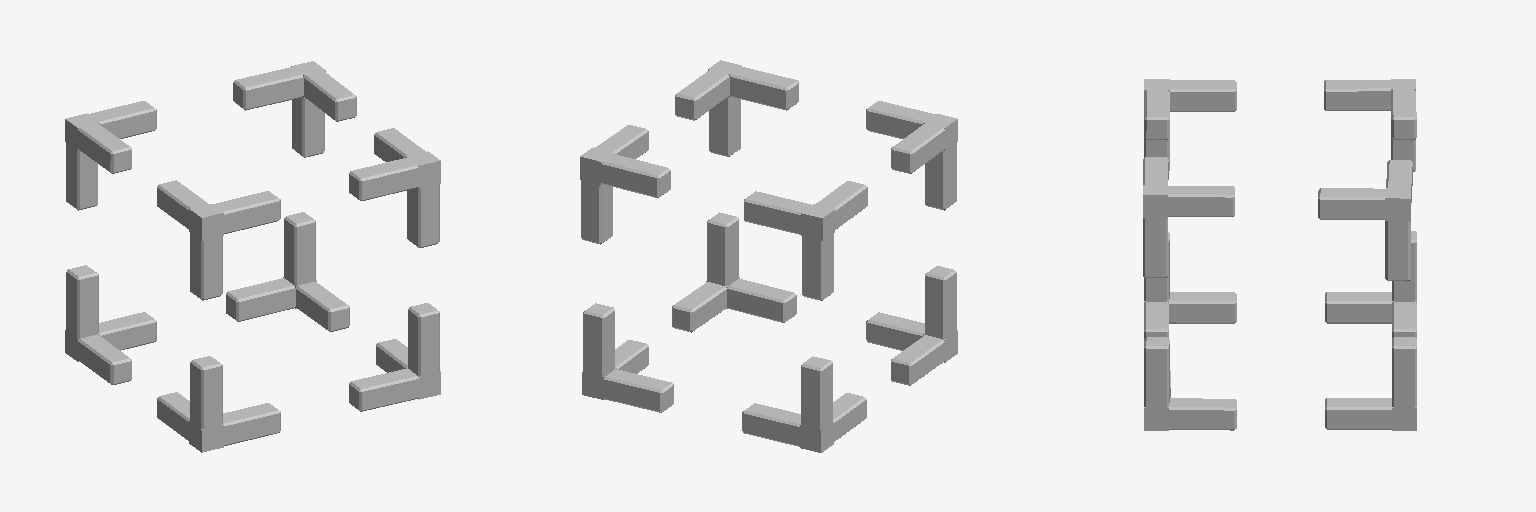
The model's file is mark-asteroid.obj.
3 renders of one model, left to right at view 1: azimuth 30°, elevation 25°; view 2: azimuth 150°, elevation 25°; view 3: azimuth 270°, elevation 25°, orthographic.
Visible parts, largest first — view 1: Cube.004, Cube.002, Cube.001, Cube.005, Cube.007, Cube, Cube.006, Cube.003; view 2: Cube.003, Cube.006, Cube, Cube.005, Cube.007, Cube.001, Cube.002, Cube.004; view 3: Cube.007, Cube.005, Cube.003, Cube.002, Cube.004, Cube.006, Cube, Cube.001.
Part boxes in pixels (x1,y1,x2,y2): Cube.004: (157,180,280,300); Cube.002: (226,212,349,331); Cube.001: (157,356,280,452); Cube.005: (349,128,440,247); Cube.007: (233,61,356,157); Cube: (65,265,156,384); Cube.006: (65,101,156,210); Cube.003: (349,303,440,411); Cube.003: (672,212,796,332); Cube.006: (744,181,867,300); Cube: (742,356,866,452); Cube.005: (675,60,798,156); Cube.007: (580,125,670,244); Cube.001: (866,266,957,385); Cube.002: (582,303,673,412); Cube.004: (866,101,957,210); Cube.007: (1318,160,1412,281); Cube.005: (1143,157,1234,277); Cube.003: (1144,337,1236,430); Cube.002: (1325,337,1416,430); Cube.004: (1144,79,1236,170); Cube.006: (1324,79,1416,171); Cube: (1325,231,1416,337); Cube.001: (1144,232,1236,338).
Size of the model in its own units: 3.37 by 3.08 by 3.26.